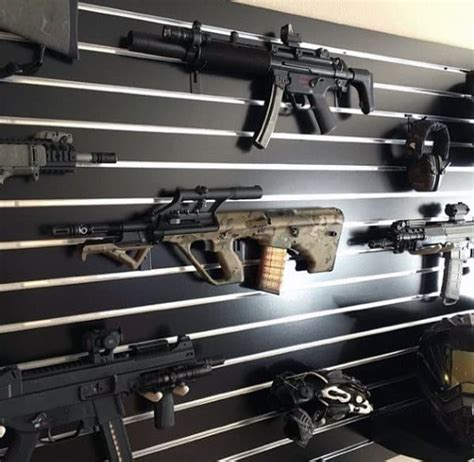gun: (48, 183, 343, 296), (126, 18, 373, 149), (1, 326, 226, 462), (348, 201, 474, 305), (1, 127, 118, 184)
